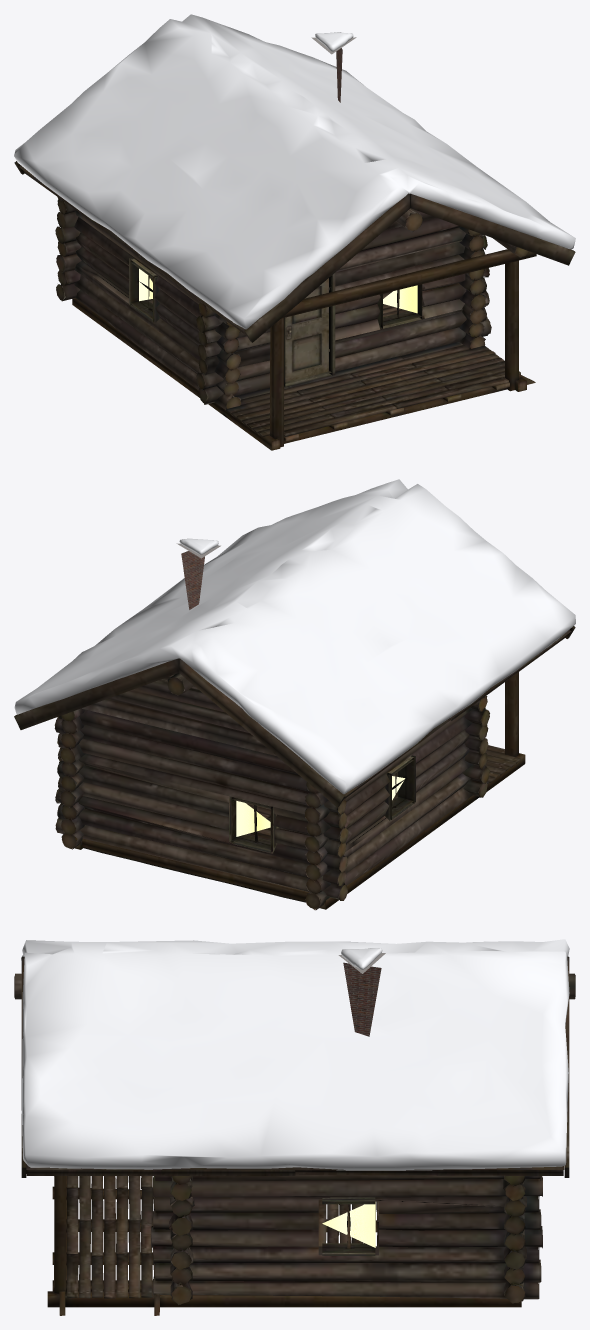
File: cottage-ar.glb
3 renders of one model, top to bottom at view 1: azimuth 30°, elevation 25°; view 2: azimuth 150°, elevation 25°; view 3: azimuth 270°, elevation 25°, orthographic. The views are drawn at different scales.
Visible parts, largest first — view 1: roof_snow, Object_8, Object_9, Object_4, Object_6, Object_10, Object_12, Object_5, Object_20; view 2: roof_snow, Object_8, Object_9, Object_10, Object_6, Object_5, Object_4, Object_20, chimney; view 3: roof_snow, Object_9, Object_4, Object_6, Object_8, Object_10, chimney, Object_20, Object_5, chimney_snow.
Part boxes in pixels (box(x1,y1,x2,y2)): roof_snow: box(14, 14, 575, 329); Object_8: box(55, 197, 491, 404); Object_9: box(74, 208, 528, 409); Object_4: box(148, 280, 520, 437); Object_6: box(72, 249, 536, 450); Object_10: box(14, 161, 575, 342); Object_12: box(285, 278, 329, 381); Object_5: box(129, 257, 422, 386); Object_20: box(139, 268, 417, 313); roof_snow: box(14, 479, 575, 794); Object_8: box(54, 675, 489, 900); Object_9: box(59, 673, 472, 910); Object_10: box(14, 626, 575, 807); Object_6: box(74, 672, 525, 909); Object_5: box(229, 755, 415, 853); Object_4: box(245, 745, 520, 840); Object_20: box(236, 776, 405, 836); chimney: box(181, 551, 204, 609); roof_snow: box(21, 939, 569, 1170); Object_9: box(14, 973, 575, 1299); Object_4: box(54, 1176, 378, 1298); Object_6: box(47, 1176, 521, 1315); Object_8: box(169, 1175, 526, 1304); Object_10: box(21, 956, 569, 1177); chimney: box(343, 962, 381, 1036); Object_20: box(322, 1202, 375, 1247); Object_5: box(322, 1197, 375, 1255); chimney_snow: box(341, 948, 382, 969).
Size of the model in its own units: 0.0609 by 0.047 by 0.0746.
11 materials, 8 textured.
